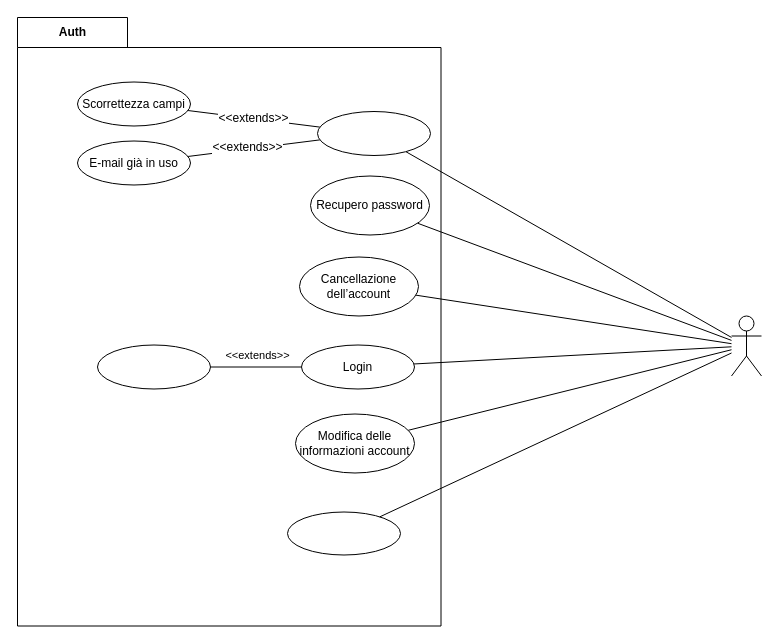
The diagram is 779 pixels wide and 644 high, and some of its shapes have lost their labels. Each missing label, with the centre of its shape:
Credenziali non valide: the point at 153,366
Logout: the point at 343,533
Registrazione: the point at 373,133
User: the point at 746,345
